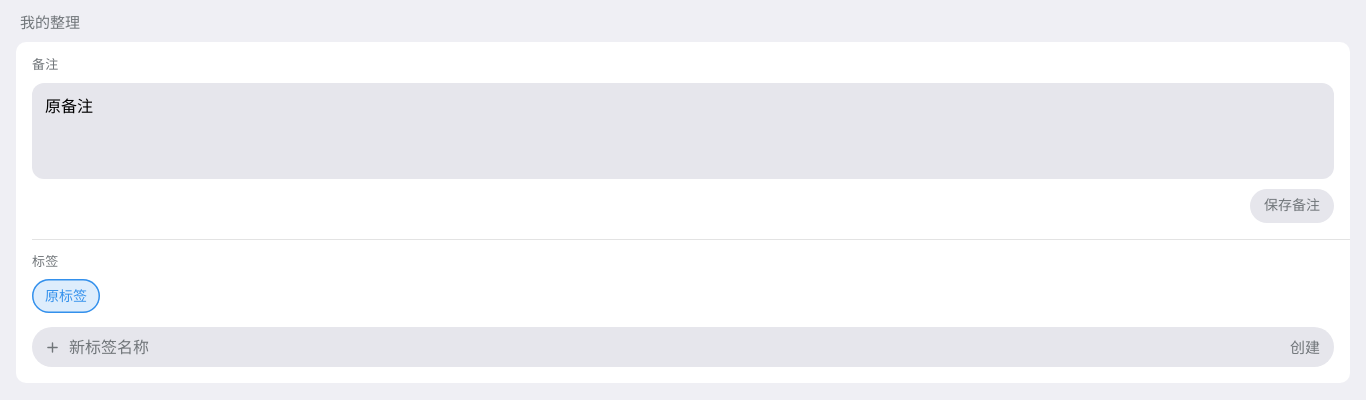
autosaves tag creation and removal while the note waits for its button
expect the button "保存备注" is disabled: met, box top-left (1250, 189), bottom-right (1334, 223)
Replace the text in the text box labelled "备注" with "新备注": (683, 131) top-left (32, 83), bottom-right (1334, 179)
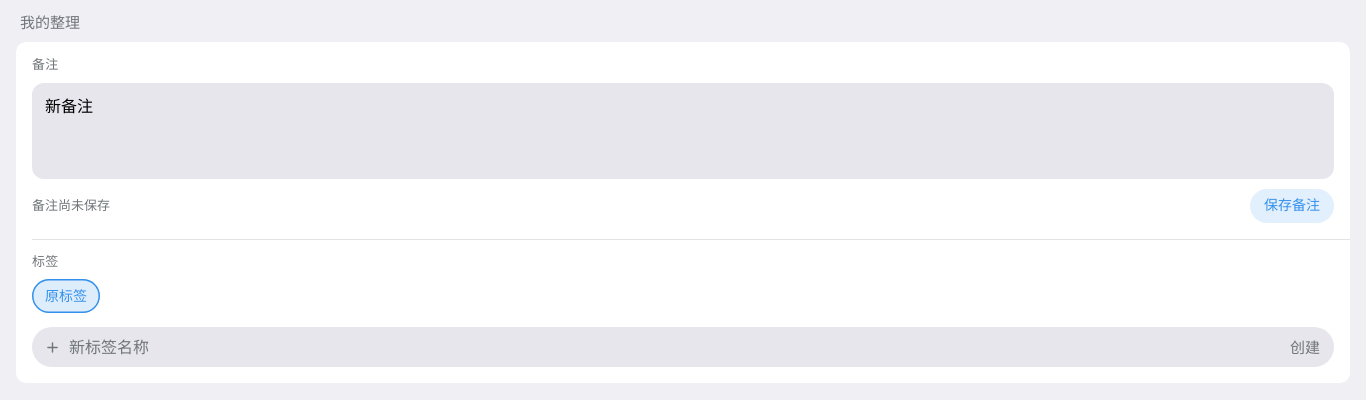
In the field named "新标签名称": (670, 347) top-left (67, 327), bottom-right (1274, 367), type "新标签"
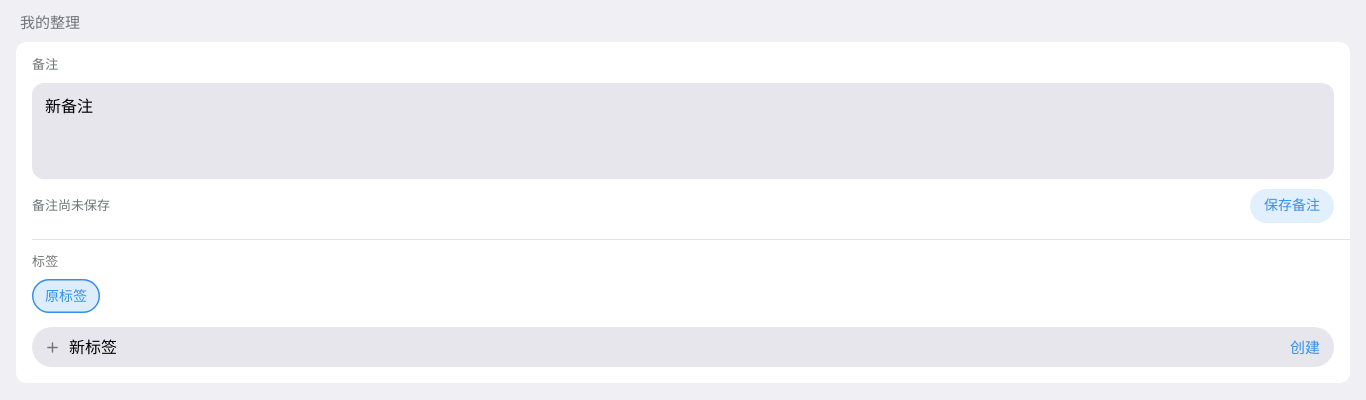
Click the button "创建": (1305, 347) top-left (1280, 327), bottom-right (1330, 367)
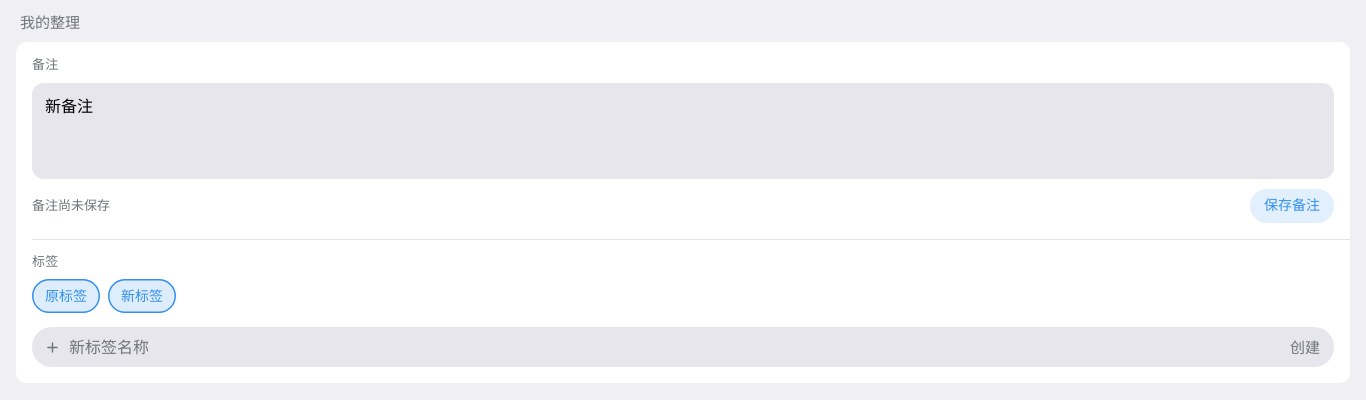
expect the button "保存备注" is enabled: met, box top-left (1250, 189), bottom-right (1334, 223)
Click the checkbox labelled "原标签": (66, 296) top-left (32, 279), bottom-right (100, 313)
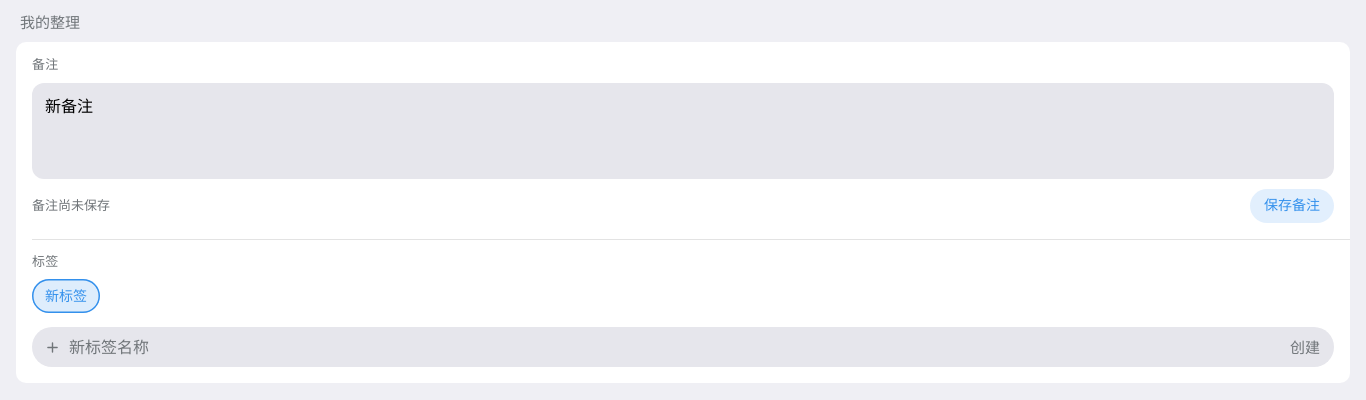
Click the button "保存备注": (1292, 206) top-left (1250, 189), bottom-right (1334, 223)
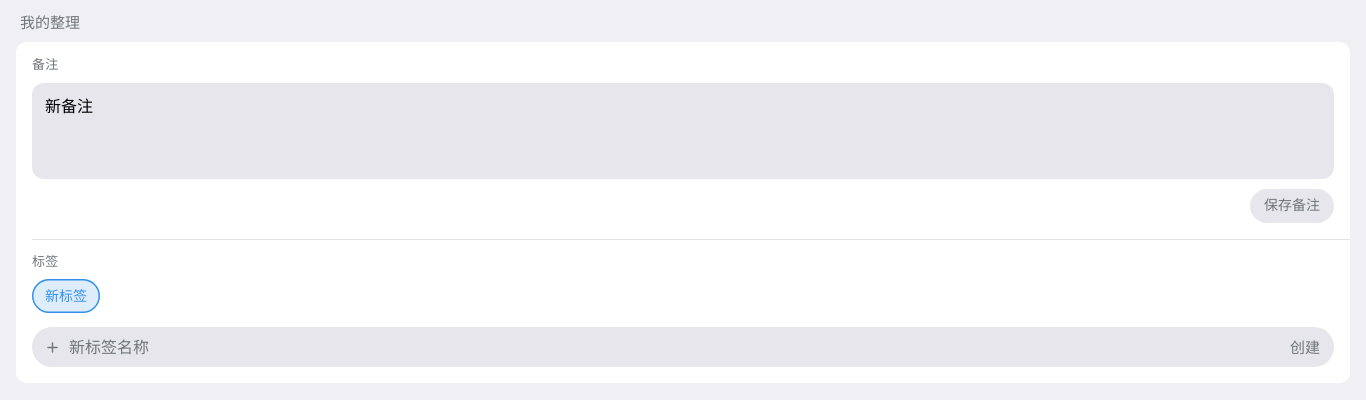
expect the button "保存备注" is disabled: met, box top-left (1250, 189), bottom-right (1334, 223)
